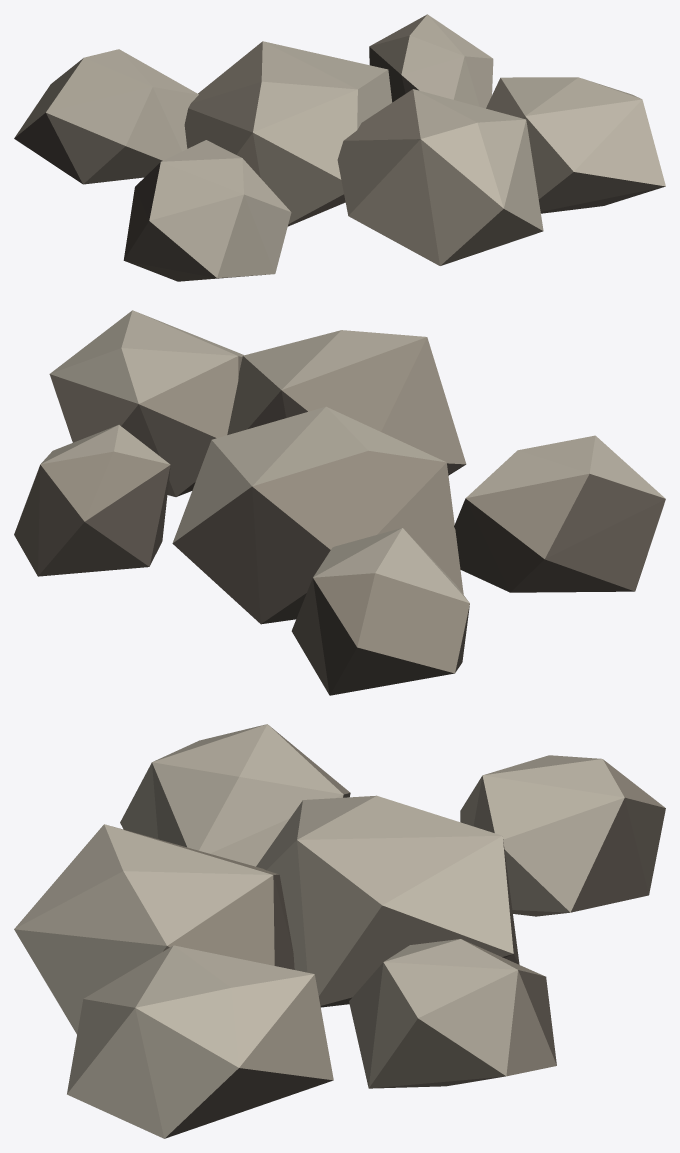
The model's file is stone_smallPile.glb.
3 views of the same model, one above another, from view 1: azimuth 30°, elevation 25°; view 2: azimuth 150°, elevation 25°; view 3: azimuth 270°, elevation 25° (orthographic). The views are drawn at different scales.
Parts seen in each view (by area): view 1: stone_smallPile.002; view 2: stone_smallPile.002; view 3: stone_smallPile.002.
Part boxes in pixels (x1,y1,x2,y2): stone_smallPile.002: (14,14,665,281); stone_smallPile.002: (14,310,665,695); stone_smallPile.002: (14,724,665,1138).
Size of the model in its own units: 0.25 by 0.0621 by 0.2159.
